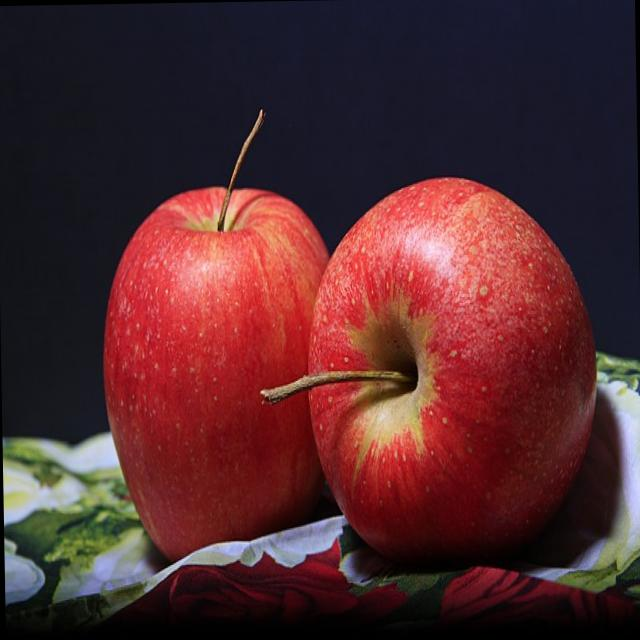apple: (310, 162, 598, 577), (93, 188, 350, 572)
